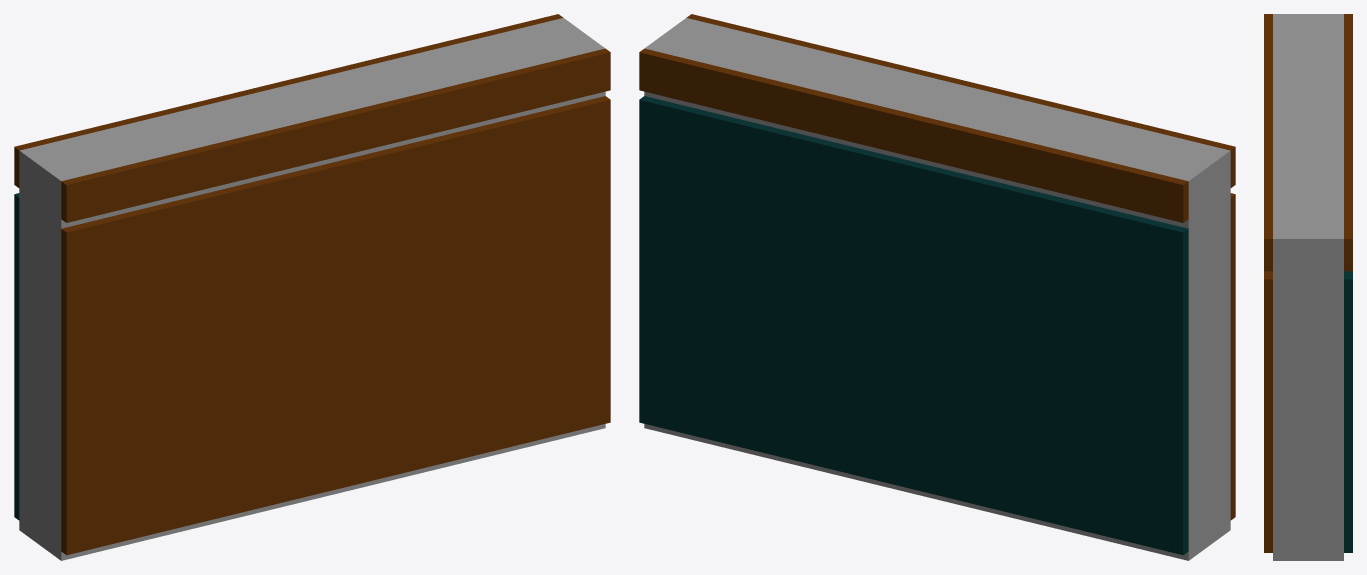
The model's file is Manufacturing Wall 3.obj.
3 views of the same model, side by side, from view 1: azimuth 30°, elevation 25°; view 2: azimuth 150°, elevation 25°; view 3: azimuth 270°, elevation 25° (orthographic). The views are drawn at different scales.
Size of the model in its own units: 60 by 40 by 10.
1 material, 1 textured.
